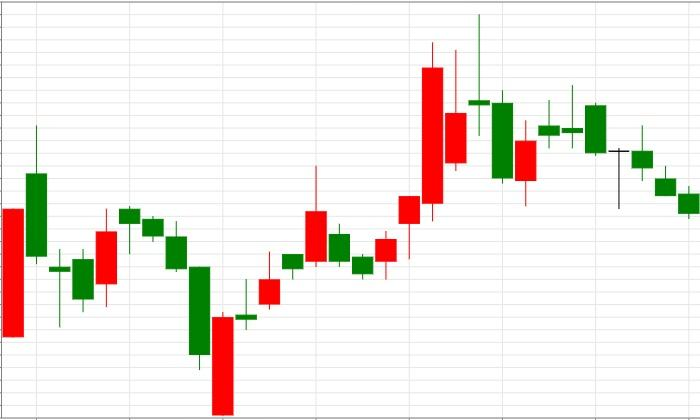evening_star_fall: (351, 14, 513, 280)
three_black_crows_fall: (49, 205, 211, 370)
